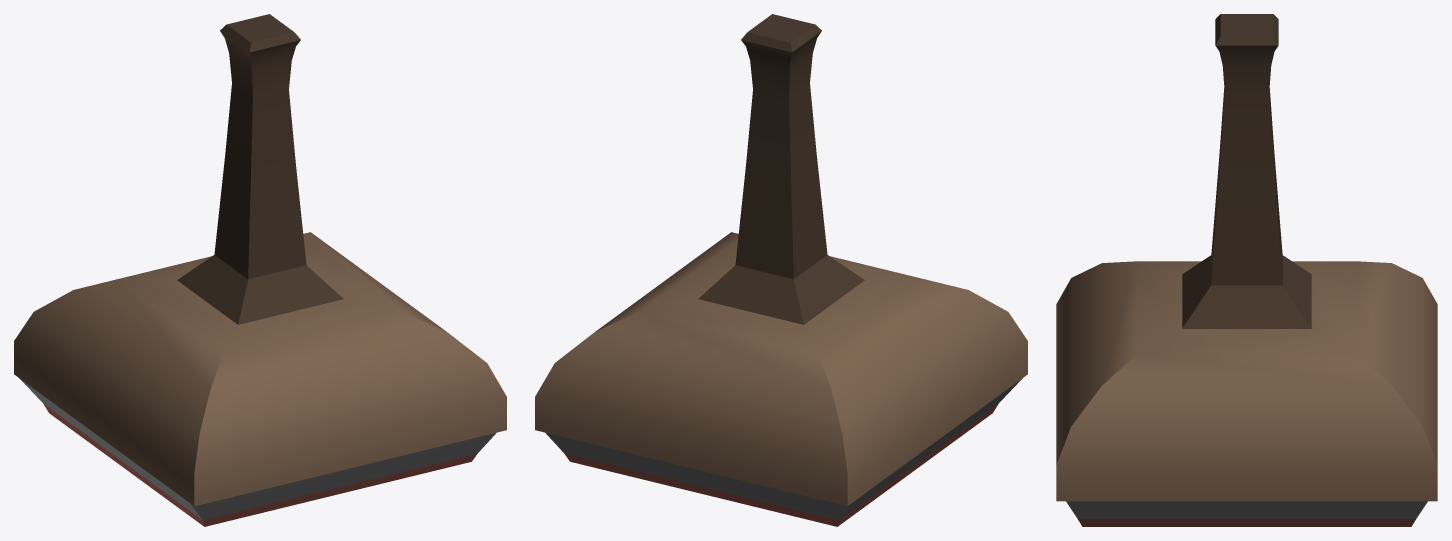
The model's file is Stamp.fbx.
3 renders of one model, left to right at view 1: azimuth 30°, elevation 25°; view 2: azimuth 150°, elevation 25°; view 3: azimuth 270°, elevation 25°, orthographic. The views are drawn at different scales.
Parts seen in each view (by area): view 1: pCube1; view 2: pCube1; view 3: pCube1.
Boxes of the visible parts, left/top/right/bottom form: pCube1: left=14, top=14, right=506, bottom=526; pCube1: left=535, top=14, right=1027, bottom=526; pCube1: left=1056, top=14, right=1437, bottom=526.
Size of the model in its own units: 0.1516 by 0.1897 by 0.1516.
